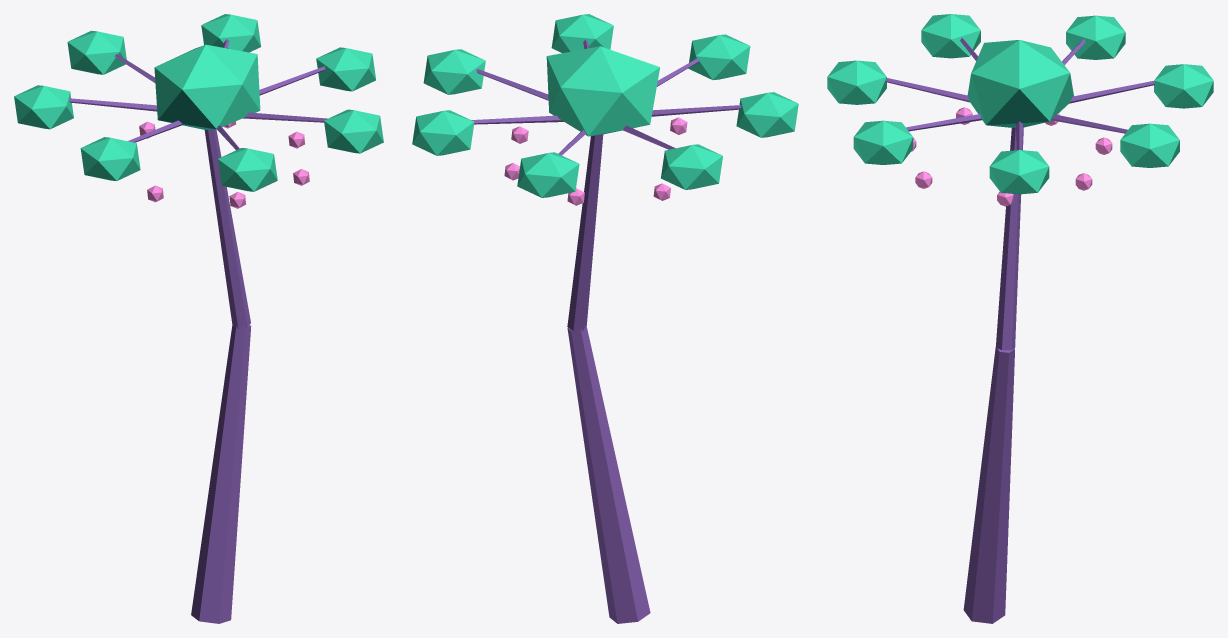
File: Alien_Tree_Tall.obj
The picture shows the model from 3 angles, left to right: view 1: azimuth 30°, elevation 25°; view 2: azimuth 150°, elevation 25°; view 3: azimuth 270°, elevation 25°; orthographic projection. The views are drawn at different scales.
Visible parts, largest first — view 1: Alien_Tree_Tall; view 2: Alien_Tree_Tall; view 3: Alien_Tree_Tall.
Part boxes in pixels (bbox=[...]): Alien_Tree_Tall: bbox=[14, 14, 383, 623]; Alien_Tree_Tall: bbox=[412, 14, 798, 623]; Alien_Tree_Tall: bbox=[827, 14, 1213, 623].
Size of the model in its own units: 5.49 by 9.17 by 5.52.
1 material, 1 textured.
